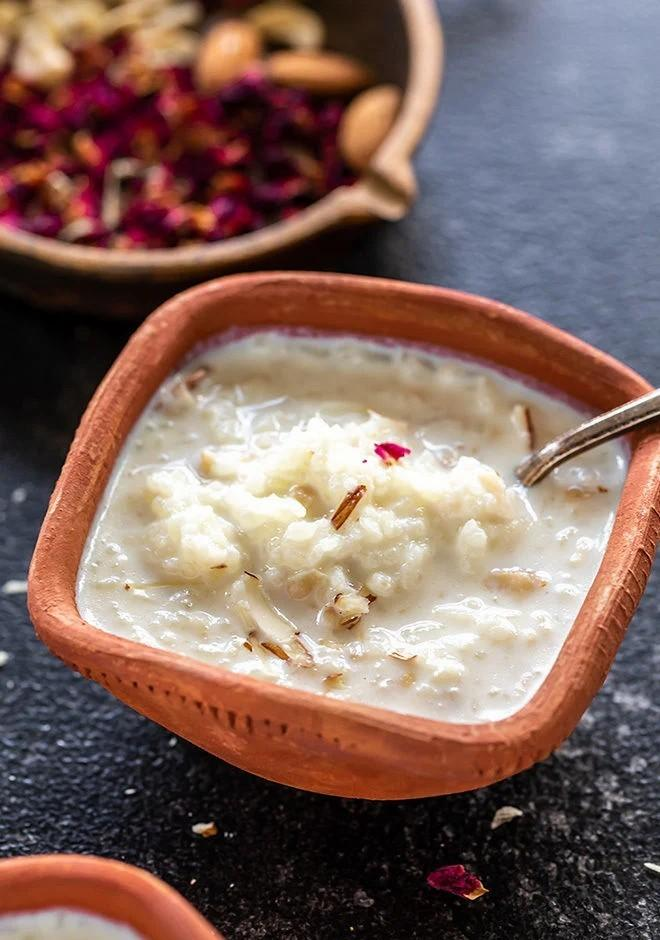Kheer: (75, 328, 627, 727)
